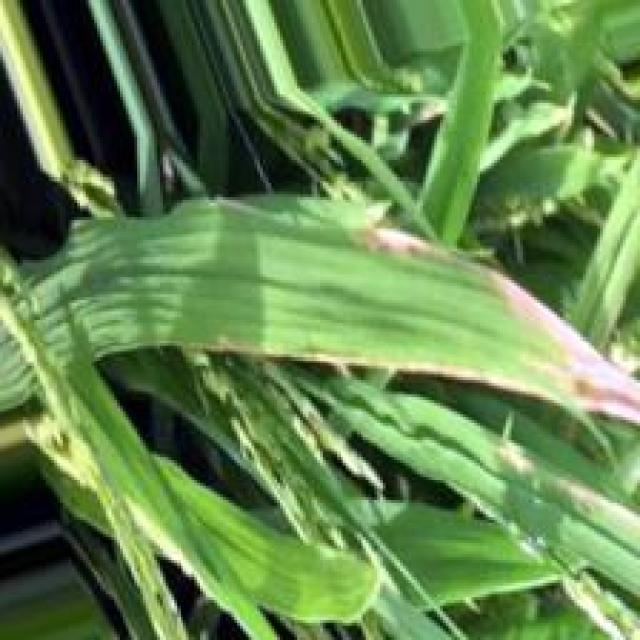Unhealthy: (491, 272, 640, 429), (363, 227, 434, 257), (498, 447, 532, 475), (555, 482, 595, 504)
